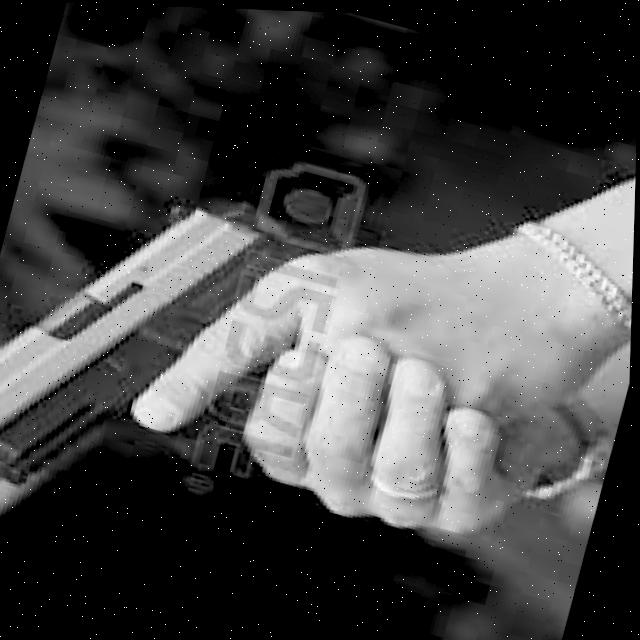pistol: (0, 138, 315, 542)
